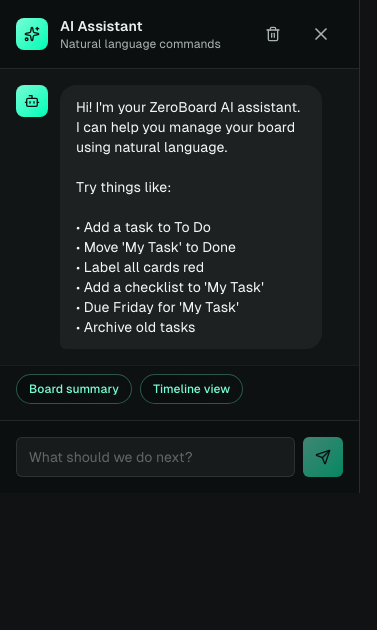
AI shared-board permissions › still permits a board summary for a viewer
This screenshot has width=377, height=630.
Type "Update this card" into the field with placeholder "What should we do next?" at (156, 457), box [16, 437, 295, 477]
Then press Enter
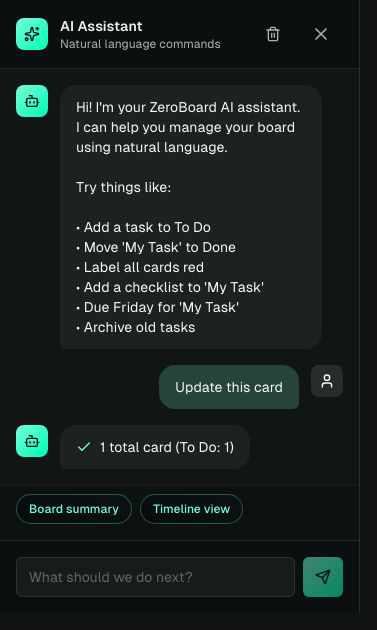
Expected: the button "Board summary" is shown, [16, 494, 132, 524]
Now the text "1 total card (To Do: 1)" is shown, box [100, 437, 234, 457]
